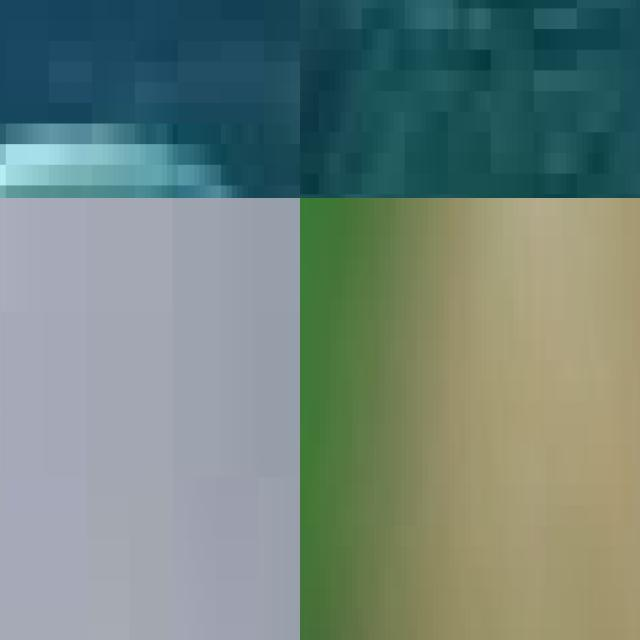fish: (300, 198, 640, 640), (0, 0, 300, 198)
